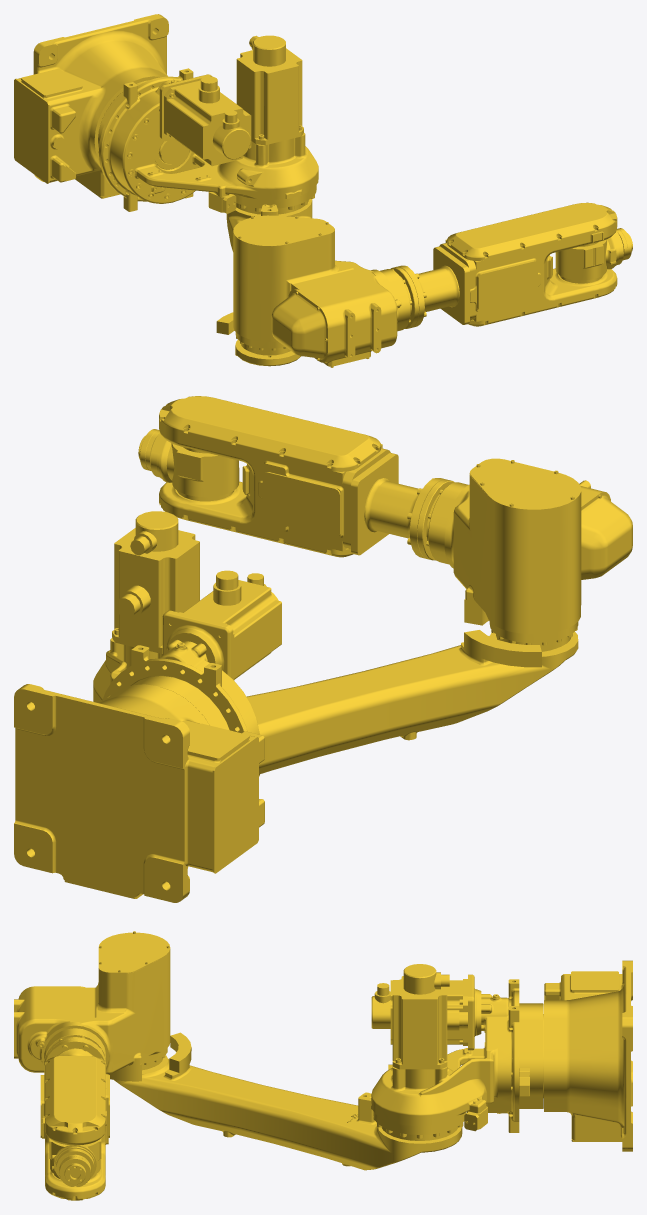
3 views of the same model, one above another, from view 1: azimuth 30°, elevation 25°; view 2: azimuth 150°, elevation 25°; view 3: azimuth 270°, elevation 25° (orthographic). The views are drawn at different scales.
Visible parts, largest first — view 1: ER20-1, ER20-3, ER20, ER20-4, ER20-5, ER20-2; view 2: ER20, ER20-4, ER20-3, ER20-1, ER20-2, ER20-5; view 3: ER20-1, ER20, ER20-2, ER20-3, ER20-4, ER20-5, ER20-6.
Part boxes in pixels (bbox=[...]): ER20-1: bbox=[98, 35, 318, 214]; ER20-3: bbox=[233, 215, 412, 367]; ER20: bbox=[14, 14, 185, 198]; ER20-4: bbox=[390, 202, 617, 328]; ER20-5: bbox=[555, 229, 627, 280]; ER20-2: bbox=[216, 199, 312, 366]; ER20: bbox=[14, 676, 264, 902]; ER20-4: bbox=[159, 396, 454, 560]; ER20-3: bbox=[426, 458, 632, 651]; ER20-1: bbox=[93, 511, 281, 734]; ER20-2: bbox=[246, 630, 578, 776]; ER20-5: bbox=[145, 430, 239, 497]; ER20-1: bbox=[371, 964, 529, 1140]; ER20: bbox=[519, 960, 632, 1151]; ER20-2: bbox=[114, 1032, 462, 1170]; ER20-3: bbox=[14, 931, 170, 1081]; ER20-4: bbox=[40, 1037, 109, 1200]; ER20-5: bbox=[49, 1138, 101, 1179]; ER20-6: bbox=[59, 1156, 91, 1186].
Bounding box in the file's own units: 0.97 × 0.5379 × 1.46.
